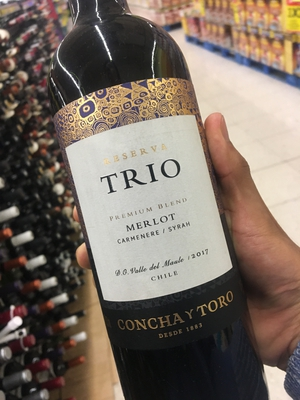trio merlot: (34, 20, 265, 396)
